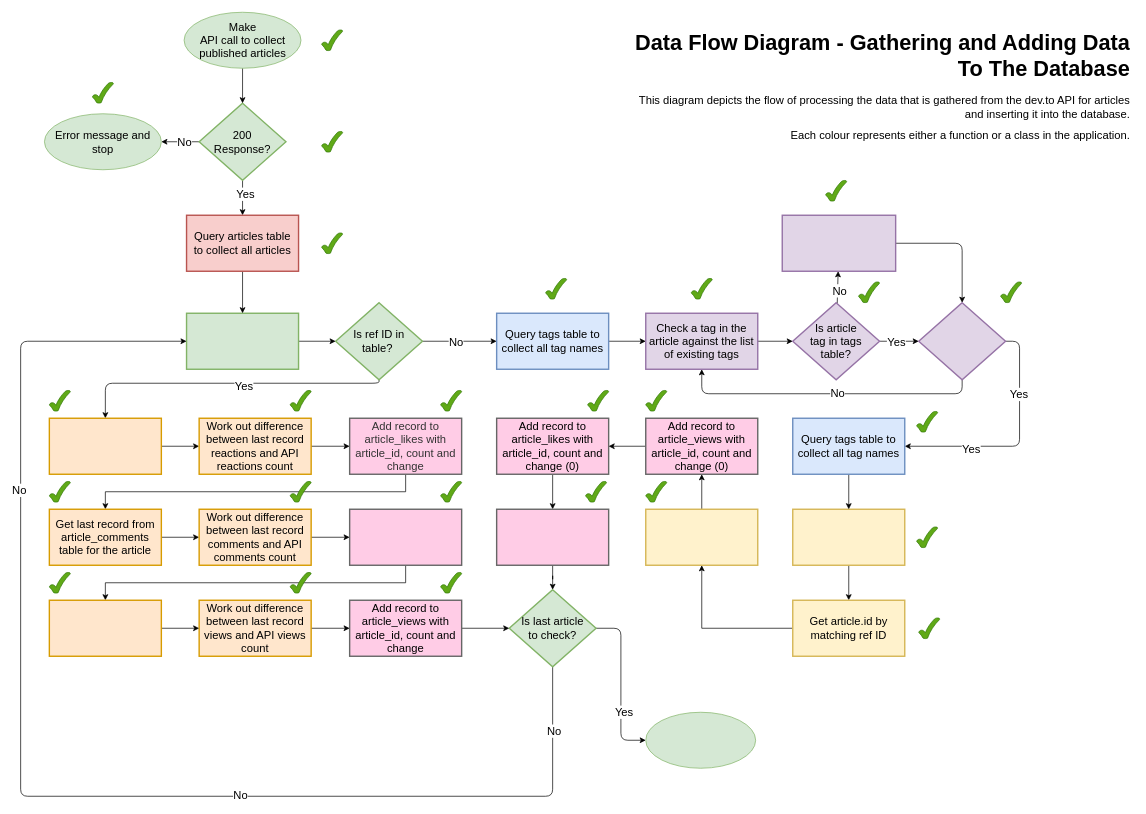
Image size: 1146x814. Some labels were removed from this diagram. Each missing label, with the centre of its shape:
Add article details to the articles table: the point at 848,537
Add article_id and each tag to article_tags table: the point at 701,537
Add record to article_comments with article_id, count and change: the point at 405,537
Add record to article_comments with article_id, count and change (0): the point at 552,537
Add tag to table: the point at 838,243
End of process: the point at 700,740
Get last record from article_likes table for the article: the point at 105,446
Get last record from article_views table for the article: the point at 105,628
Is last tag to check?: the point at 962,341
Query article ref ID against API articles: the point at 242,341
